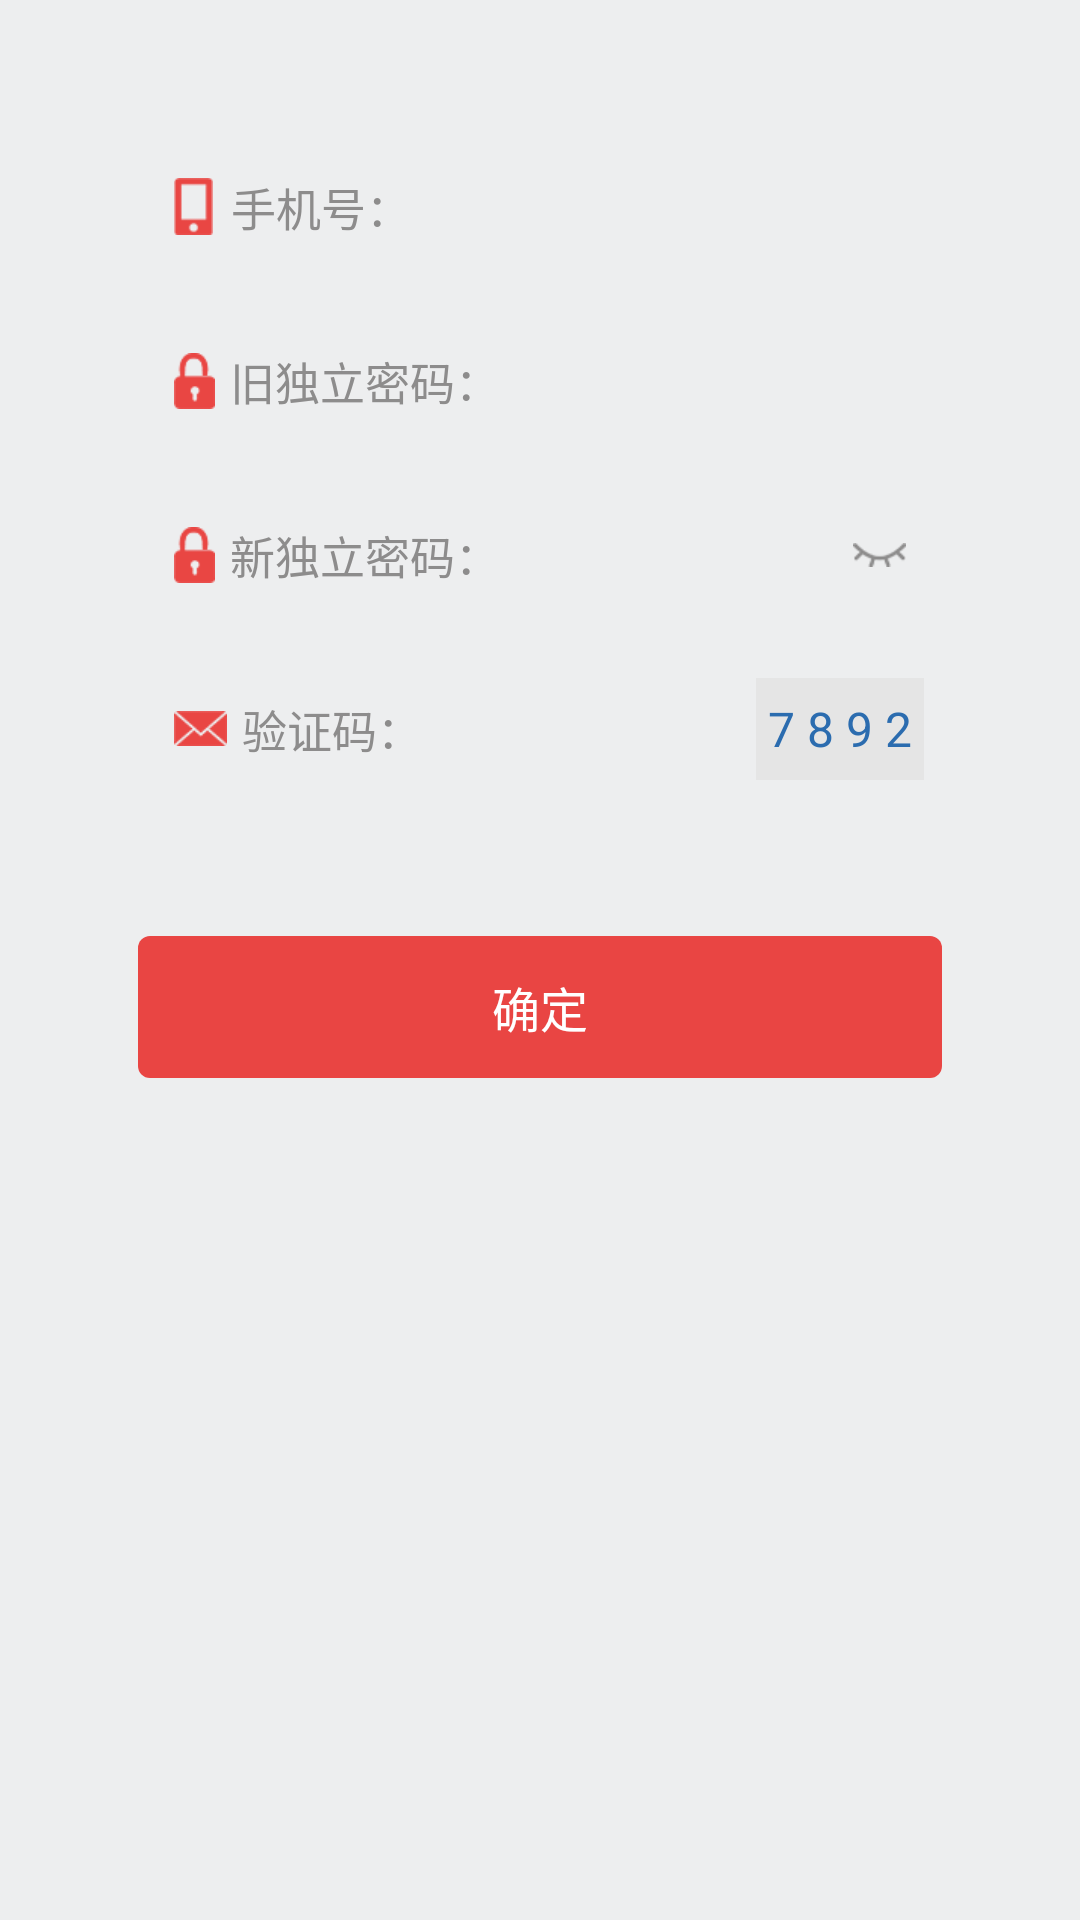

Icon click points for this 1080 × 1920 phone screenshot, format point (x, y):
yanjingbi: point (879, 555)
